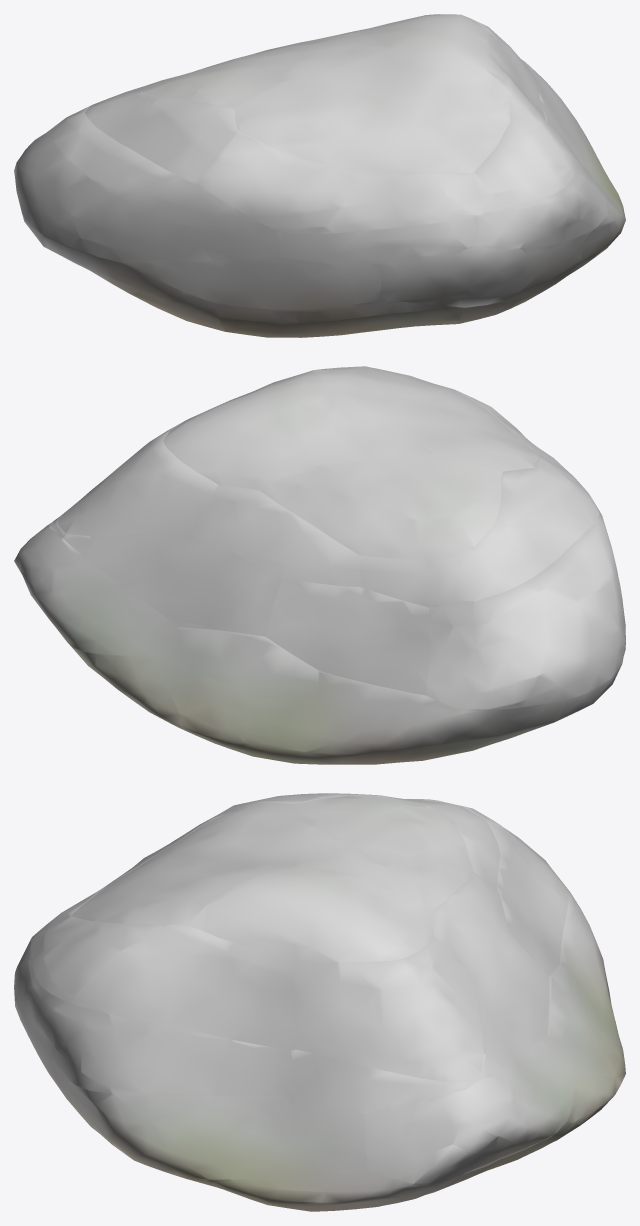
File: coal_rock.glb
The picture shows the model from 3 angles, top to bottom: view 1: azimuth 30°, elevation 25°; view 2: azimuth 150°, elevation 25°; view 3: azimuth 270°, elevation 25°; orthographic projection. The views are drawn at different scales.
Visible parts, largest first — view 1: Chunk_28, Chunk_16, Chunk_23, Chunk_10, Chunk_11, Chunk_22, Chunk_24, Chunk_18, Chunk_04, Chunk_17, Chunk_27, Chunk_29 (+6 smaller); view 2: Chunk_16, Chunk_27, Chunk_02, Chunk_22, Chunk_15, Chunk_14, Chunk_28, Chunk_29, Chunk_07, Chunk_21, Chunk_25, Chunk_01 (+5 smaller); view 3: Chunk_24, Chunk_25, Chunk_12, Chunk_18, Chunk_07, Chunk_29, Chunk_28, Chunk_27, Chunk_14, Chunk_00, Chunk_19, Chunk_15 (+10 smaller).
Boxes of the visible parts, x1,y1,x2,y2 form: Chunk_28: (234,49,510,173); Chunk_16: (14,106,280,262); Chunk_23: (198,130,485,233); Chunk_10: (122,257,381,309); Chunk_11: (380,235,586,307); Chunk_22: (85,86,238,184); Chunk_24: (473,53,576,211); Chunk_18: (477,101,608,247); Chunk_04: (217,300,465,337); Chunk_17: (280,218,478,264); Chunk_27: (143,36,331,108); Chunk_29: (341,14,505,83); Chunk_16: (426,511,625,709); Chunk_27: (260,456,502,560); Chunk_02: (243,695,565,764); Chunk_22: (359,468,599,607); Chunk_15: (265,579,429,695); Chunk_14: (62,534,281,636); Chunk_28: (315,366,538,471); Chunk_29: (163,370,332,490); Chunk_07: (14,521,177,655); Chunk_21: (189,484,360,587); Chunk_25: (57,421,217,536); Chunk_01: (71,646,251,755); Chunk_24: (31,916,296,1050); Chunk_25: (293,936,484,1082); Chunk_12: (69,1081,367,1179); Chunk_18: (14,941,296,1096); Chunk_07: (364,1036,573,1183); Chunk_29: (188,867,433,962); Chunk_28: (71,802,309,925); Chunk_27: (292,796,473,909); Chunk_14: (477,932,549,1077); Chunk_00: (171,1165,488,1211); Chunk_19: (291,1049,482,1113); Chunk_15: (497,854,567,976).
Bounding box in the file's own units: 2.82 × 1.2 × 2.43.
